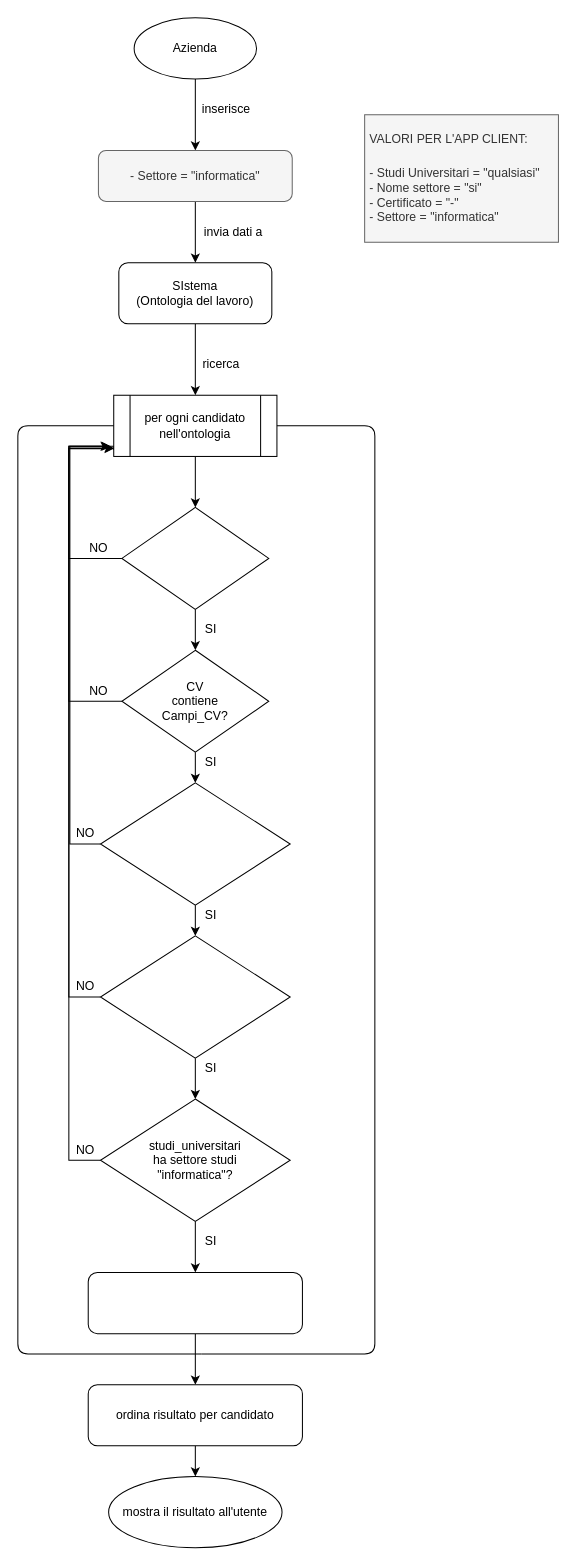
Some shapes in this 576 by 1566 pixel diagram are drawn without their labels. The box of each missing label's shape, as (x1, y1, x2, y2) in pixels:
aggiungi candidato, studi_universitari e nome_titolo_di_studi al risultato: (87, 1271, 302, 1334)
Campi_CV ha campo studi_universitari?: (99, 782, 290, 905)
candidato possiede CV?: (121, 506, 269, 609)
studi_universitari ha nome nome_titolo_di_studi?: (99, 935, 290, 1058)
